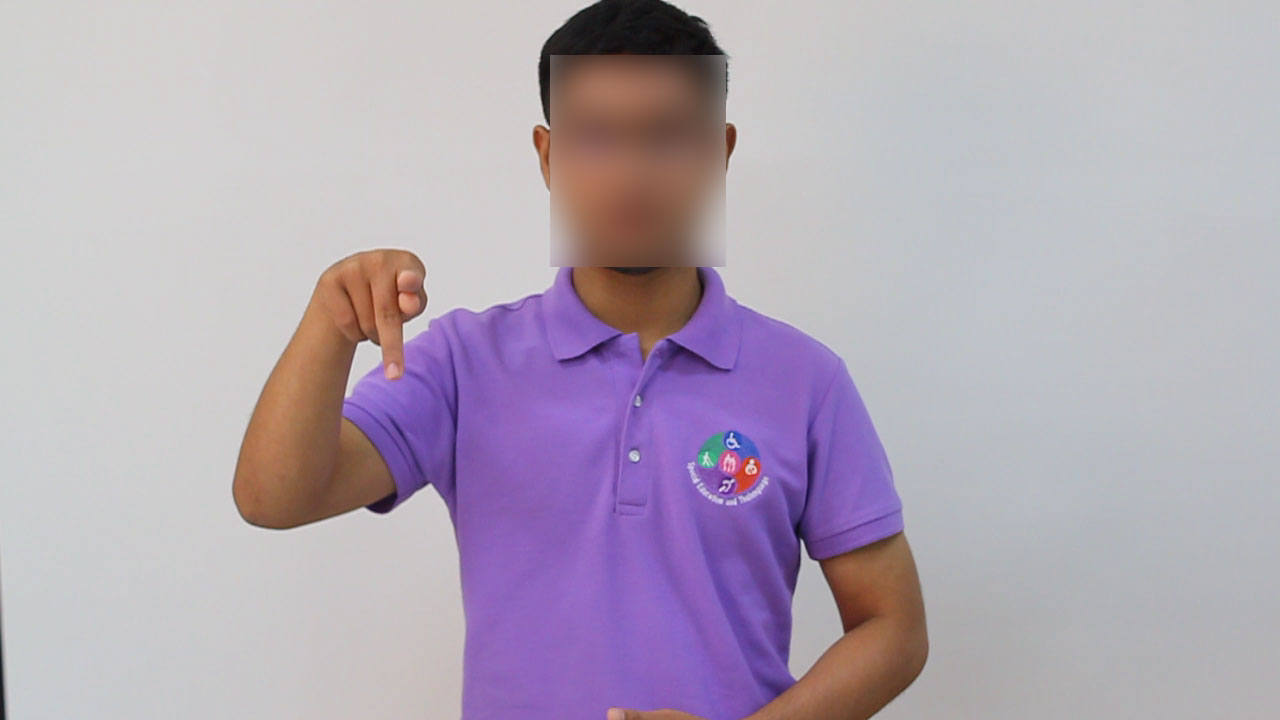por: (297, 226, 441, 389)
